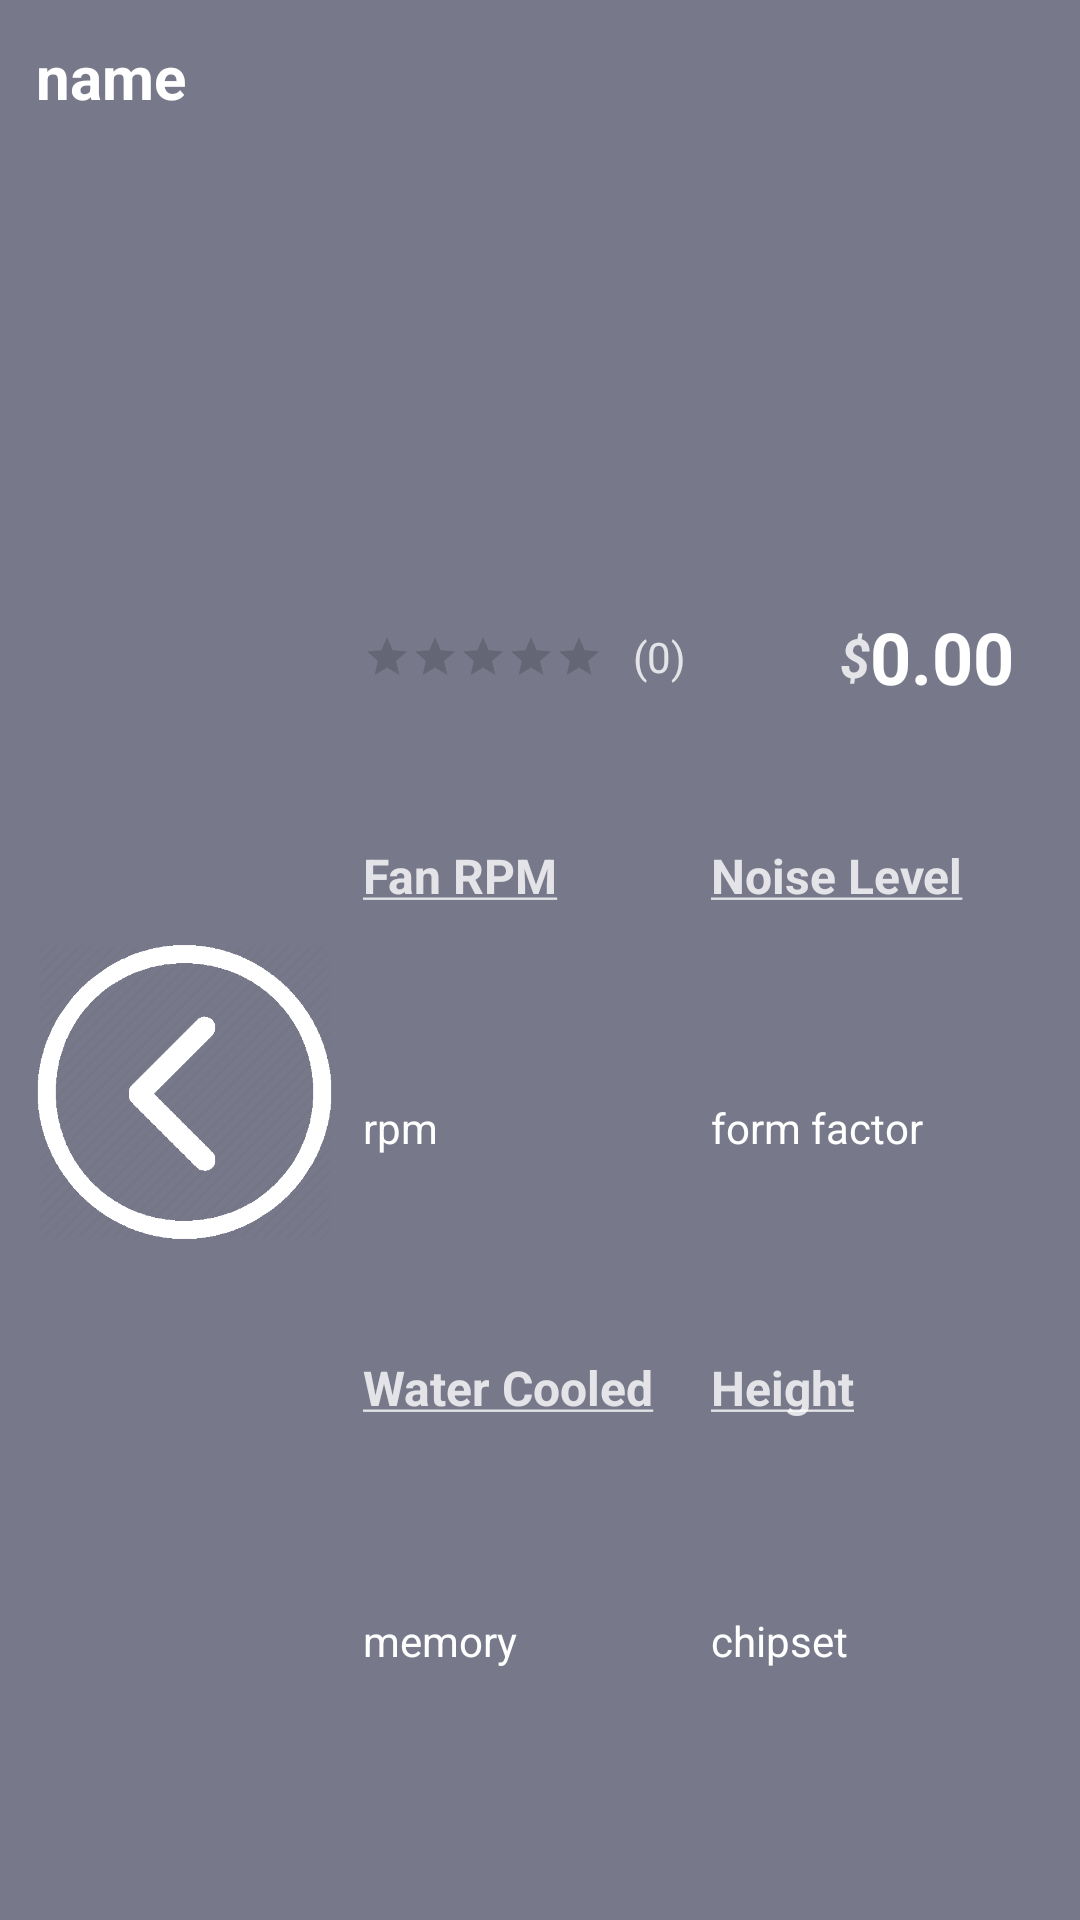

Icons on this 1080x1920 Android screen, each with its box as bbox=[x1, y1, x2, y2]:
back: bbox=[38, 945, 331, 1239]
